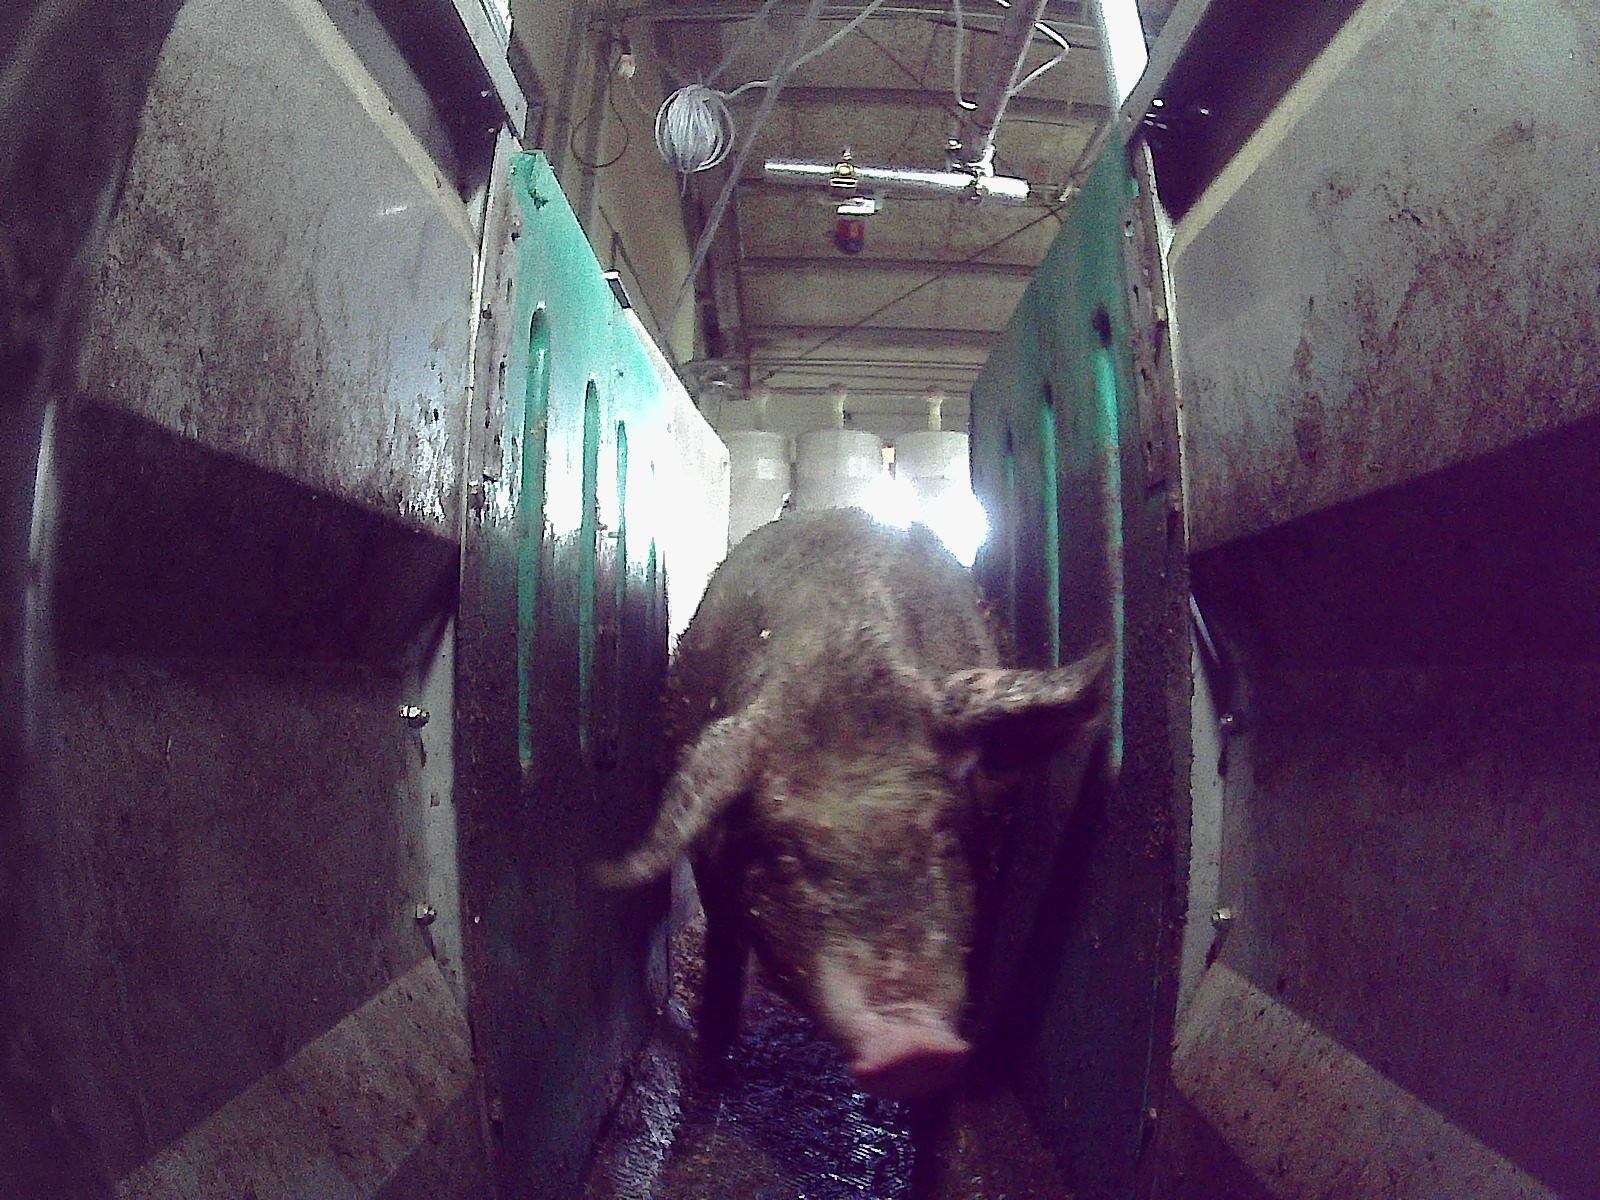Face: (711, 659, 974, 1095)
